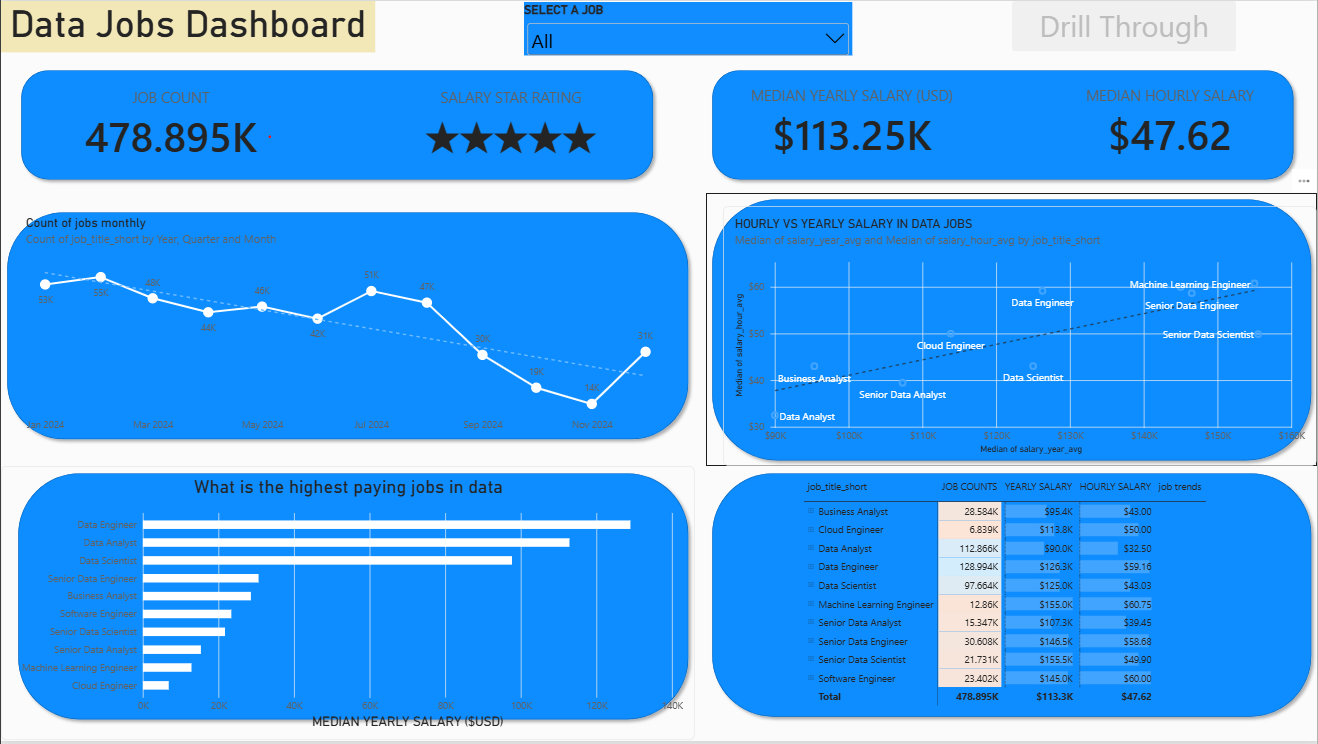

The page's visual inventory and layout, read from the dashboard file:
{"tool":"powerbi","page":{"name":"MAIN DASHBOARD","canvas":[1920,1080],"ordinal":9},"visuals":[{"type":"textbox","title":"Data Jobs Dashboard","box":[0,0,545.8,74.5],"z":0},{"type":"slicer","title":"SELECT A JOB","fields":{"Values":["job_postings_flat.job_title_short"]},"box":[762.4,2,479,77.8],"z":1000},{"type":"cardVisual","fields":{"Data":["CountNonNull(job_postings_flat.job_title_short)"]},"box":[59.9,79.8,376,201],"z":2000,"group":"g1"},{"type":"shape","box":[20,91.8,940,177.6],"z":2000},{"type":"group","id":"g1","title":"Group 1","box":[59.9,79.8,872.2,201.6],"z":3000},{"type":"cardVisual","fields":{"Data":["job_postings_flat.Median of salary_year_avg star rating"]},"box":[555.5,79.8,376,201],"z":3000,"group":"g1"},{"type":"cardVisual","fields":{"Data":["Median(job_postings_flat.salary_year_avg)"]},"box":[1053.8,77.8,376,201],"z":4000,"group":"g2"},{"type":"shape","box":[1027.9,91.8,866.2,177.6],"z":4000},{"type":"group","id":"g2","title":"Group 2","box":[1053.8,77.8,840.2,201.6],"z":5000},{"type":"cardVisual","fields":{"Data":["Median(job_postings_flat.salary_hour_avg)"]},"box":[1518.2,77.8,376,201],"z":5000,"group":"g2"},{"type":"shape","box":[0,299.4,1011.9,349.3],"z":6000},{"type":"lineChart","title":"Count of jobs monthly","fields":{"Category":["job_postings_flat.job_posted_date.Variation.Date Hierarchy.Year","job_postings_flat.job_posted_date.Variation.Date Hierarchy.Quarter","job_postings_flat.job_posted_date.Variation.Date Hierarchy.Month","job_postings_flat.job_posted_date.Variation.Date Hierarchy.Day"],"Y":["CountNonNull(job_postings_flat.job_title_short)"]},"box":[20,299.4,966,349.3],"z":7000},{"type":"shape","box":[16,680.6,995.9,377.2],"z":8000},{"type":"barChart","title":"What is the highest paying jobs in data","fields":{"Category":["job_postings_flat.job_title_short"],"Y":["CountNonNull(job_postings_flat.job_title_short)"]},"box":[0,678.6,1012,400.3],"z":9000},{"type":"shape","box":[1027.9,279.4,892.1,399.2],"z":10000},{"type":"scatterChart","title":"HOURLY VS YEARLY SALARY IN DATA JOBS","fields":{"Series":["job_postings_flat.job_title_short"],"X":["Median(job_postings_flat.salary_year_avg)"],"Y":["Median(job_postings_flat.salary_hour_avg)"]},"box":[1053.8,299.4,866.2,379.2],"z":11000},{"type":"shape","box":[1027.9,680.6,892.1,373.2],"z":12000},{"type":"pivotTable","fields":{"Rows":["job_postings_flat.job_title_short","job_postings_flat.job_posted_date.Variation.Date Hierarchy.Year","job_postings_flat.job_posted_date.Variation.Date Hierarchy.Quarter","job_postings_flat.job_posted_date.Variation.Date Hierarchy.Month","job_postings_flat.job_posted_date.Variation.Date Hierarchy.Day"],"Values":["CountNonNull(job_postings_flat.job_title_short)","Median(job_postings_flat.salary_year_avg)","Median(job_postings_flat.salary_hour_avg)","SparklineData(CountNonNull(job_postings_flat.job_title_short)_[job_postings_flat.job_posted_date.Variation.Date Hierarch"]},"box":[1155.6,680.6,764.4,399.2],"z":13000},{"type":"actionButton","box":[1474.9,0,327.3,73.8],"z":13001}]}

Visuals, with their boxes in screenshot pixels (x1, y1, x2, y2), scaled from the page's 1920x1080 canvas onto the 1318x744 screenshot:
"Data Jobs Dashboard" textbox: crop(0, 0, 375, 51)
"SELECT A JOB" slicer: crop(523, 1, 852, 55)
cardVisual - CountNonNull(job_postings_flat.job_title_short): crop(41, 55, 299, 193)
shape: crop(14, 63, 659, 186)
"Group 1" group: crop(41, 55, 640, 194)
cardVisual - job_postings_flat.Median of salary_year_avg star rating: crop(381, 55, 639, 193)
cardVisual - Median(job_postings_flat.salary_year_avg): crop(723, 54, 981, 192)
shape: crop(706, 63, 1300, 186)
"Group 2" group: crop(723, 54, 1300, 192)
cardVisual - Median(job_postings_flat.salary_hour_avg): crop(1042, 54, 1300, 192)
shape: crop(0, 206, 695, 447)
"Count of jobs monthly" lineChart: crop(14, 206, 677, 447)
shape: crop(11, 469, 695, 729)
"What is the highest paying jobs in data" barChart: crop(0, 467, 695, 743)
shape: crop(706, 192, 1317, 467)
"HOURLY VS YEARLY SALARY IN DATA JOBS" scatterChart: crop(723, 206, 1317, 467)
shape: crop(706, 469, 1317, 726)
pivotTable - job_postings_flat.job_title_short x job_postings_flat.job_posted_date.Variation.Date Hierarchy.Year: crop(793, 469, 1317, 743)
actionButton: crop(1012, 0, 1237, 51)
